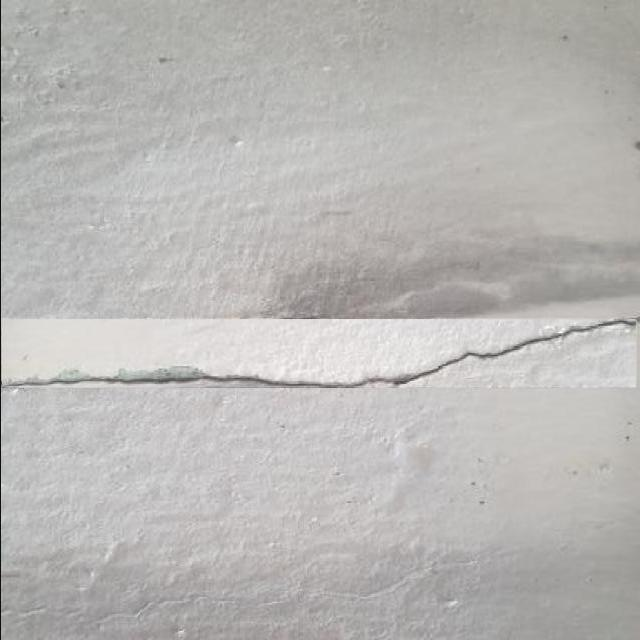crack: (2, 314, 639, 391)
